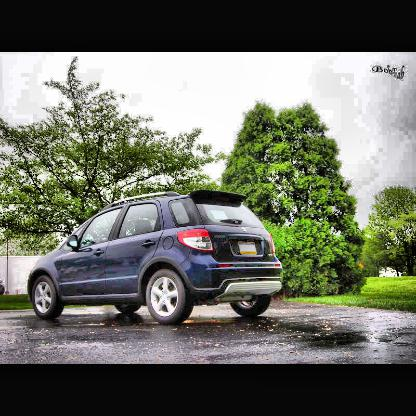Suzuki SX4 Hatchback 2012: (28, 192, 283, 326)
